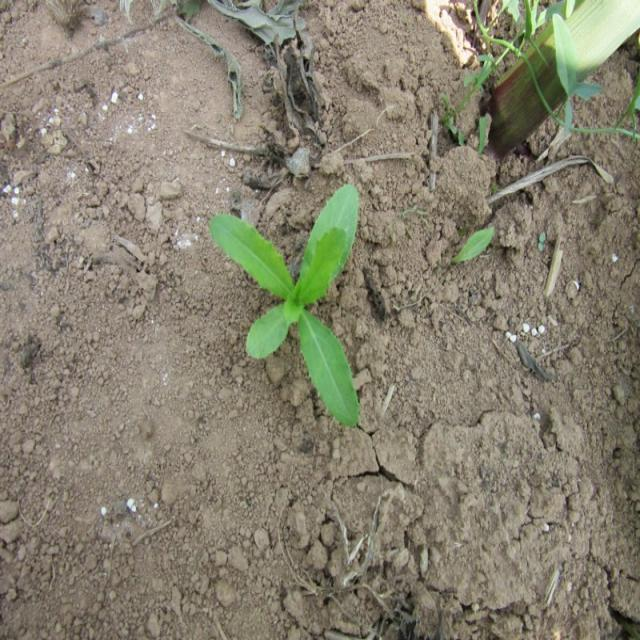cs: (207, 180, 367, 432)
